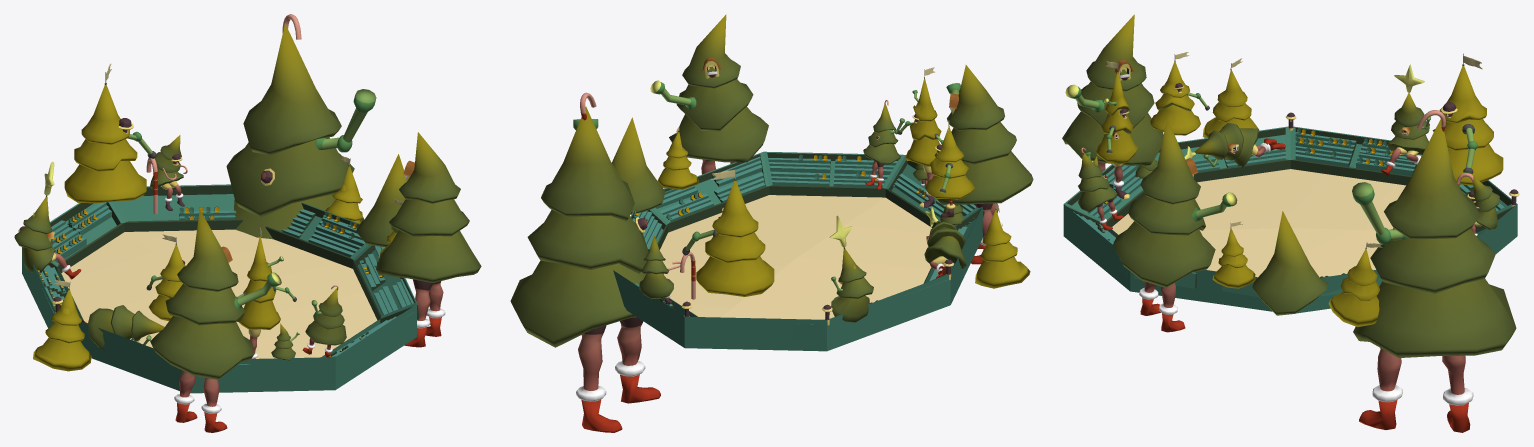
Rendered from Stadium.fbx.
3 renders of one model, left to right at view 1: azimuth 30°, elevation 25°; view 2: azimuth 150°, elevation 25°; view 3: azimuth 270°, elevation 25°, orthographic. The views are drawn at different scales.
Parts seen in each view (by area): view 1: Stadium_Final; view 2: Stadium_Final; view 3: Stadium_Final.
Boxes of the visible parts, box(x1,y1,x2,y2) form: Stadium_Final: box(14, 14, 481, 432); Stadium_Final: box(510, 14, 1033, 432); Stadium_Final: box(1062, 14, 1519, 432).
Bounding box in the file's own units: 2100 × 1575 × 1994.
